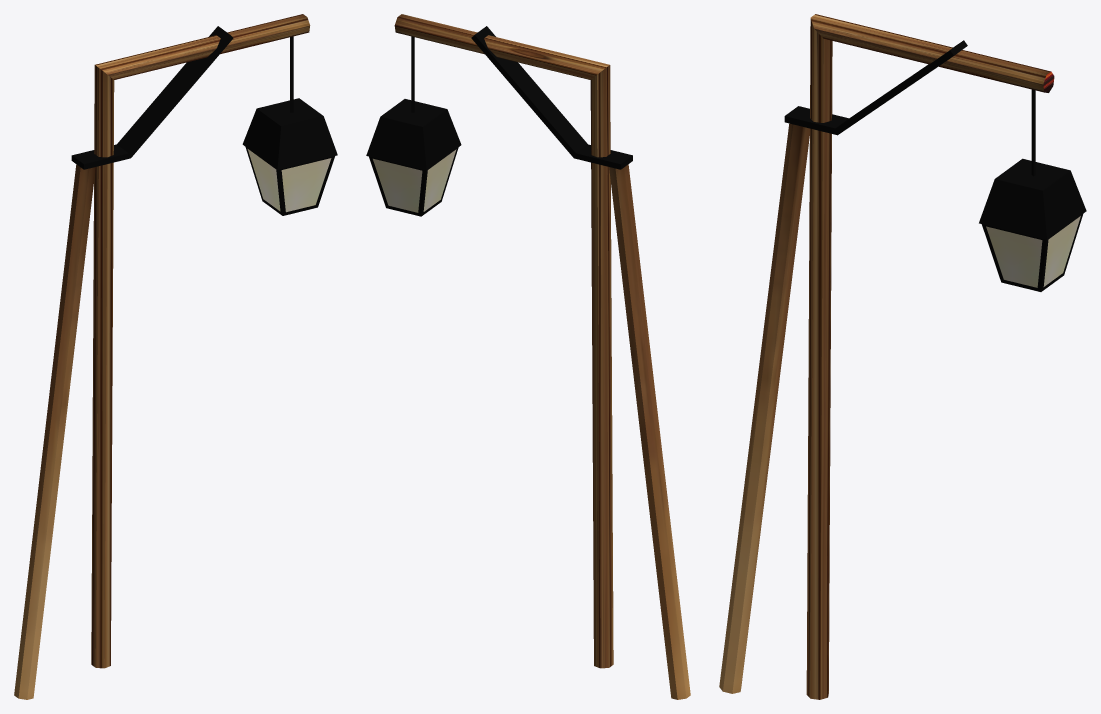
File: lampadaires.FBX
The picture shows the model from 3 angles, left to right: view 1: azimuth 30°, elevation 25°; view 2: azimuth 150°, elevation 25°; view 3: azimuth 330°, elevation 25°; orthographic projection. The views are drawn at different scales.
Parts seen in each view (by area): view 1: lampadaire; view 2: lampadaire; view 3: lampadaire.
Part boxes in pixels (box(x1,y1,x2,y2)): lampadaire: box(14, 14, 337, 699); lampadaire: box(366, 14, 690, 699); lampadaire: box(719, 14, 1086, 699).
Size of the model in its own units: 1.73 by 3.36 by 0.3436.
